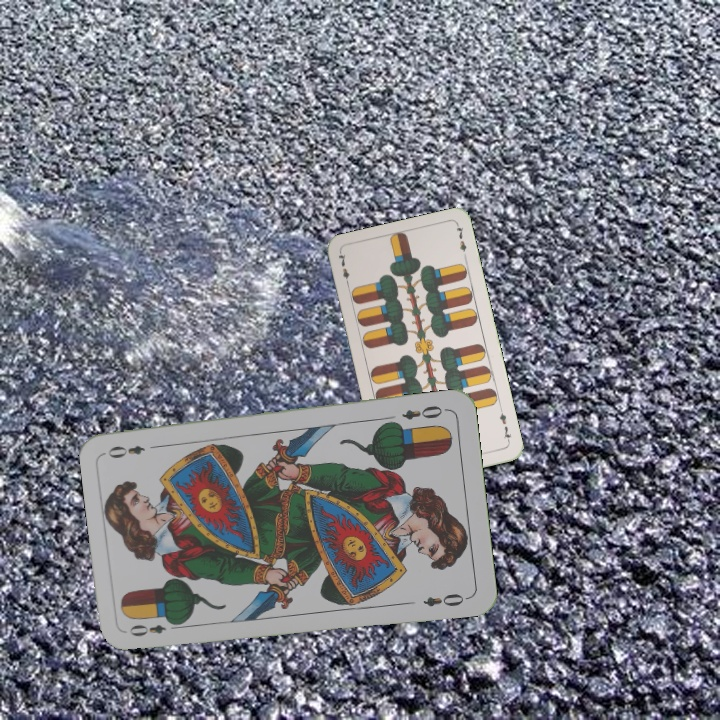E7: (495, 405, 514, 445), (334, 249, 352, 289)
EO: (125, 616, 183, 639), (398, 401, 450, 422)
